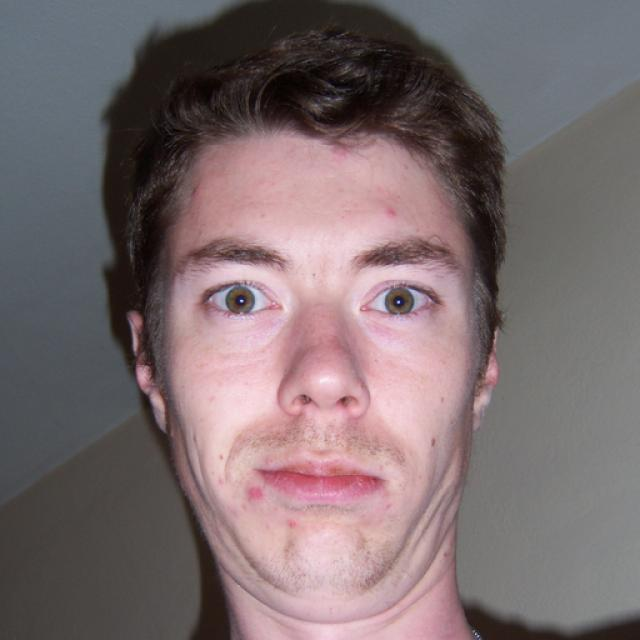surprise: (159, 111, 479, 605)
